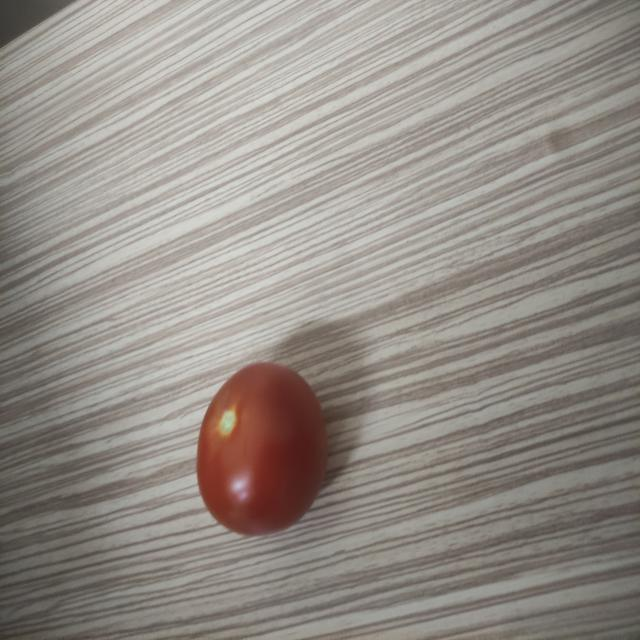kirmizi: (182, 346, 344, 534)
